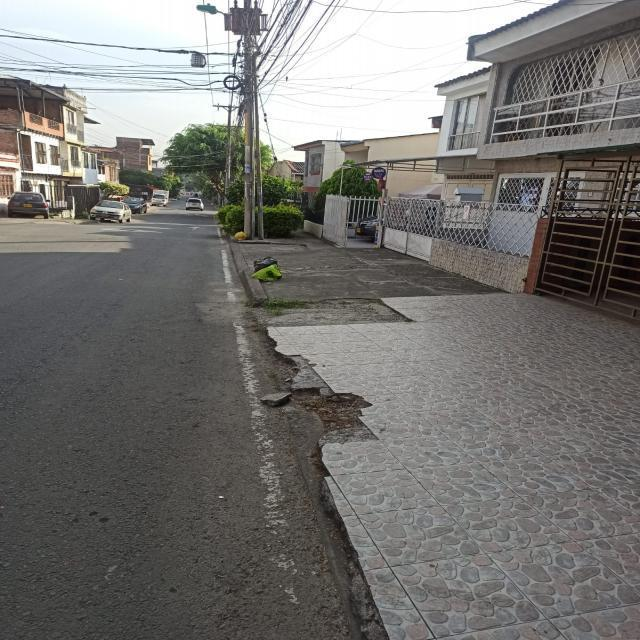Garbage_Bag: (254, 256, 282, 278), (251, 263, 281, 281), (234, 231, 248, 240)
